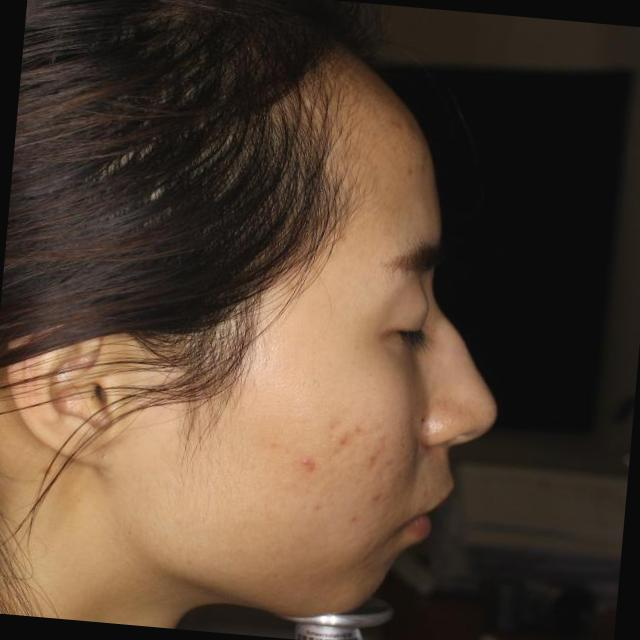acne: (390, 112, 411, 140), (366, 448, 386, 468), (336, 432, 352, 456), (368, 488, 384, 511), (389, 463, 405, 486), (300, 455, 316, 475)
